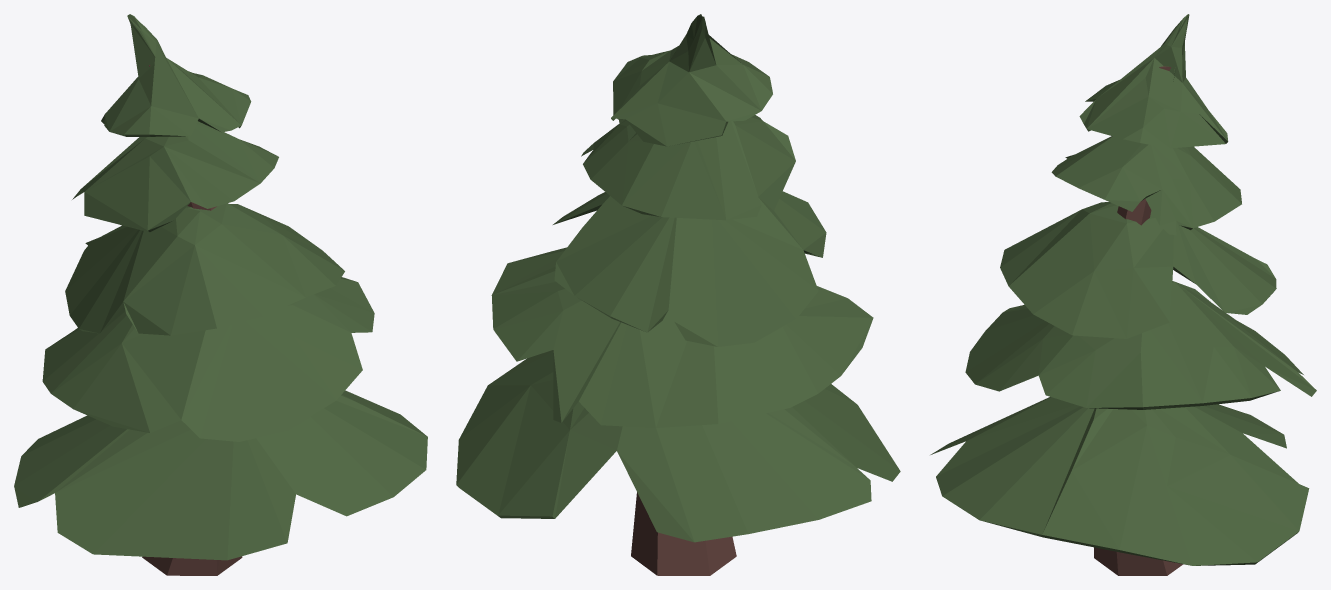
Rendered from PineTree_1_far.glb.
The picture shows the model from 3 angles, left to right: view 1: azimuth 30°, elevation 25°; view 2: azimuth 150°, elevation 25°; view 3: azimuth 270°, elevation 25°; orthographic projection. The views are drawn at different scales.
Parts seen in each view (by area): view 1: PineTree_1; view 2: PineTree_1; view 3: PineTree_1.
Boxes of the visible parts, x1,y1,x2,y2 form: PineTree_1: (14, 14, 427, 575); PineTree_1: (456, 14, 900, 575); PineTree_1: (930, 14, 1316, 575).
Bounding box in the file's own units: 1.96 × 2.7 × 1.81.
